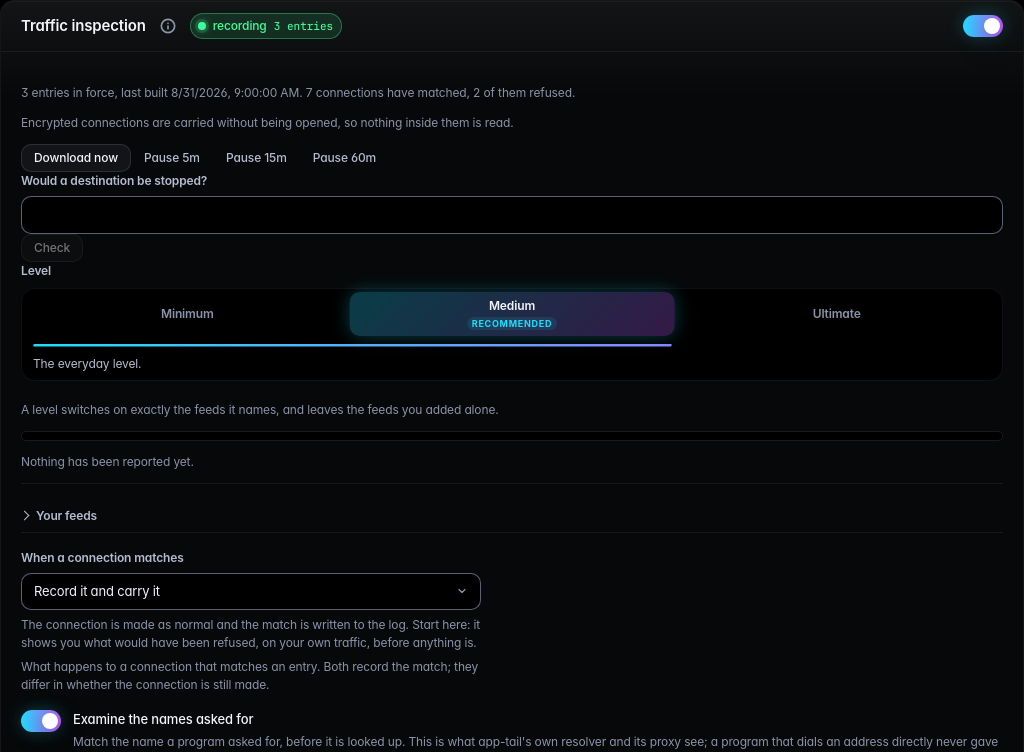
asking whether one destination is stopped › asks about the destination typed in and names the entry that matched
The width and height of the screenshot is (1024, 752).
Type "10.1.2.9" into the field labelled "Would a destination be stopped?" at (512, 215), box 21,196 -> 1003,234
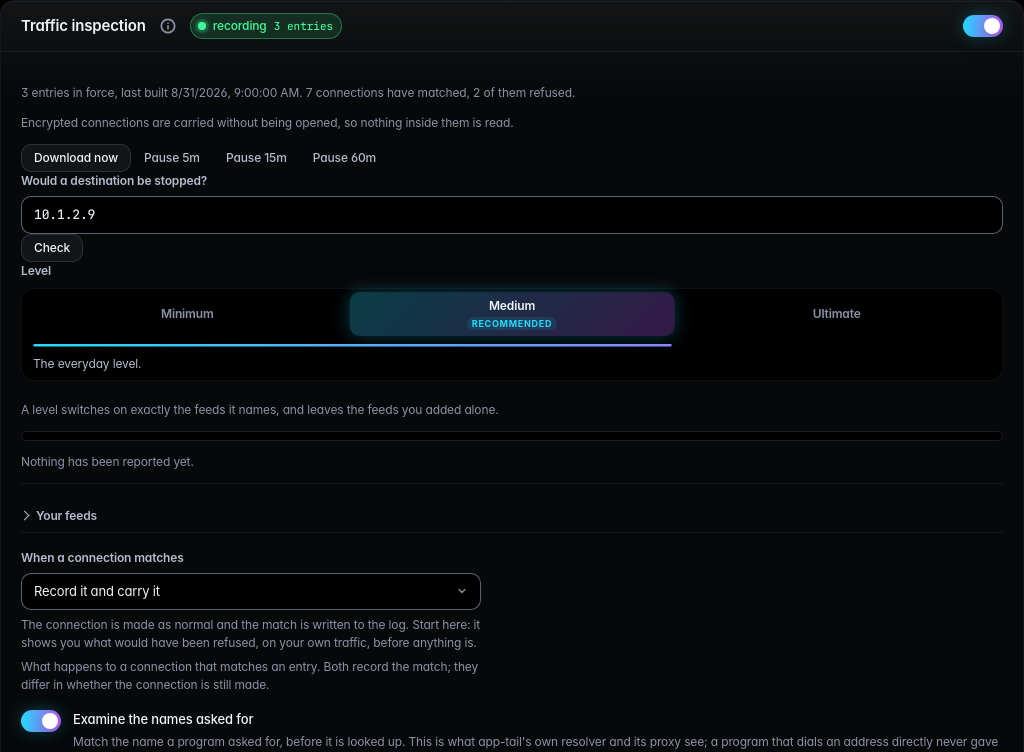
Click the button "Check" at (52, 248), box 21,234 -> 83,262
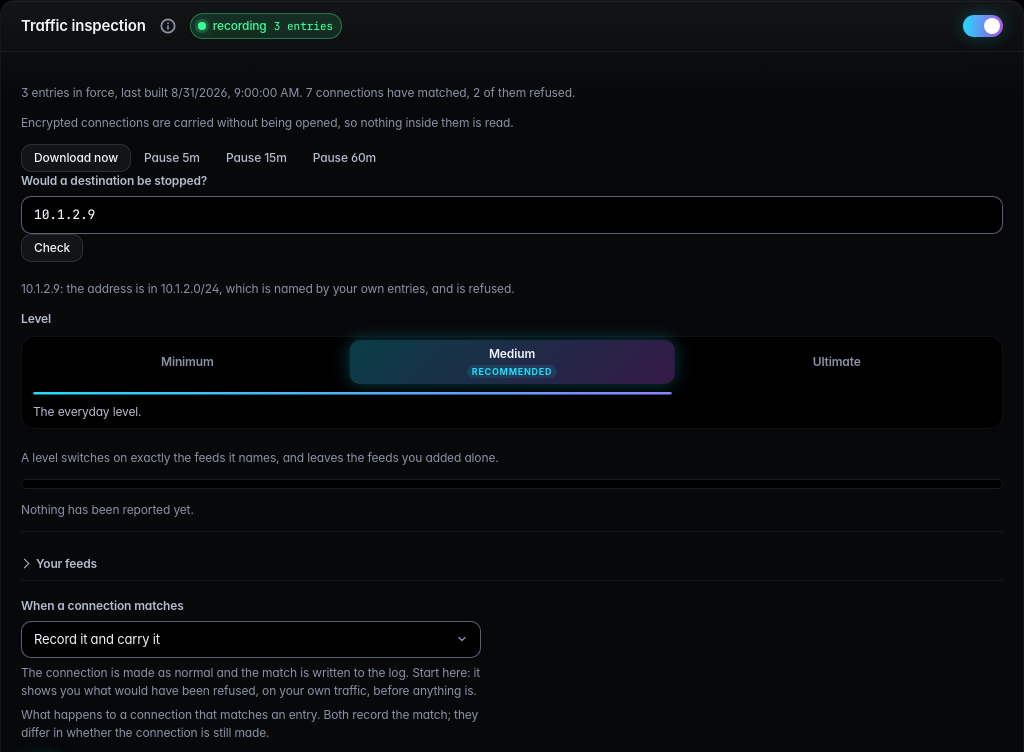
expect the text "10.1.2.0/24" is shown: met, box 21,280 -> 514,296
expect the text "is refused" is shown: met, box 21,280 -> 514,296
